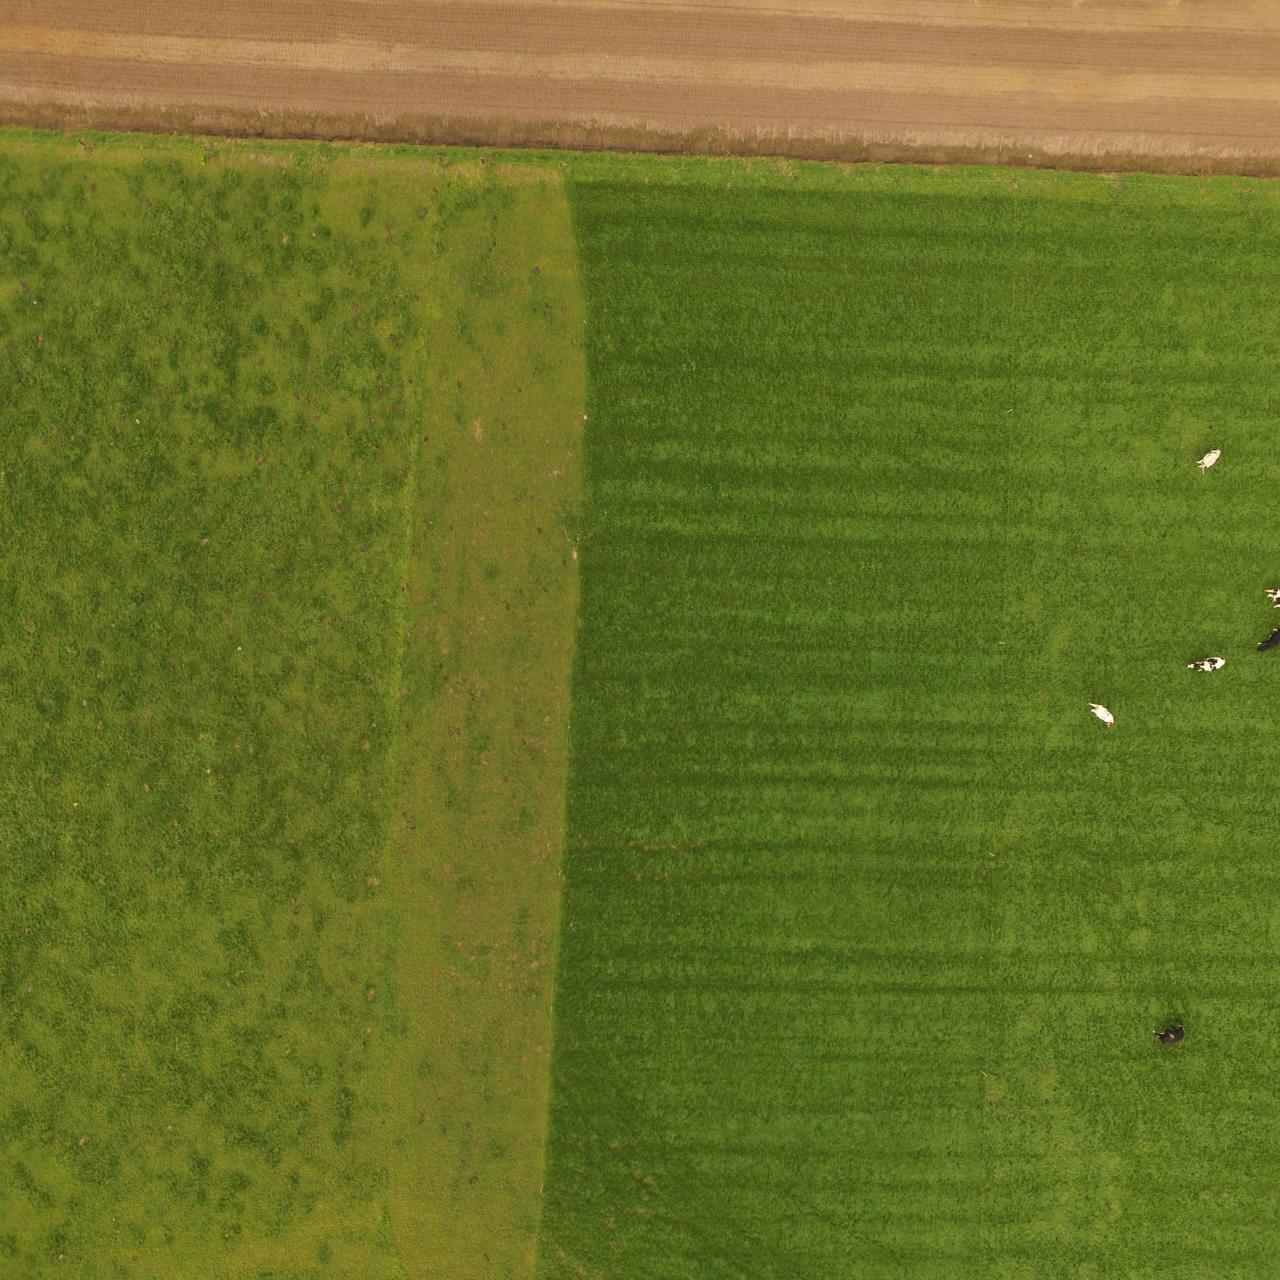cow: (1150, 1019, 1185, 1050), (1185, 655, 1231, 675), (1194, 445, 1224, 472), (1087, 701, 1116, 727)
